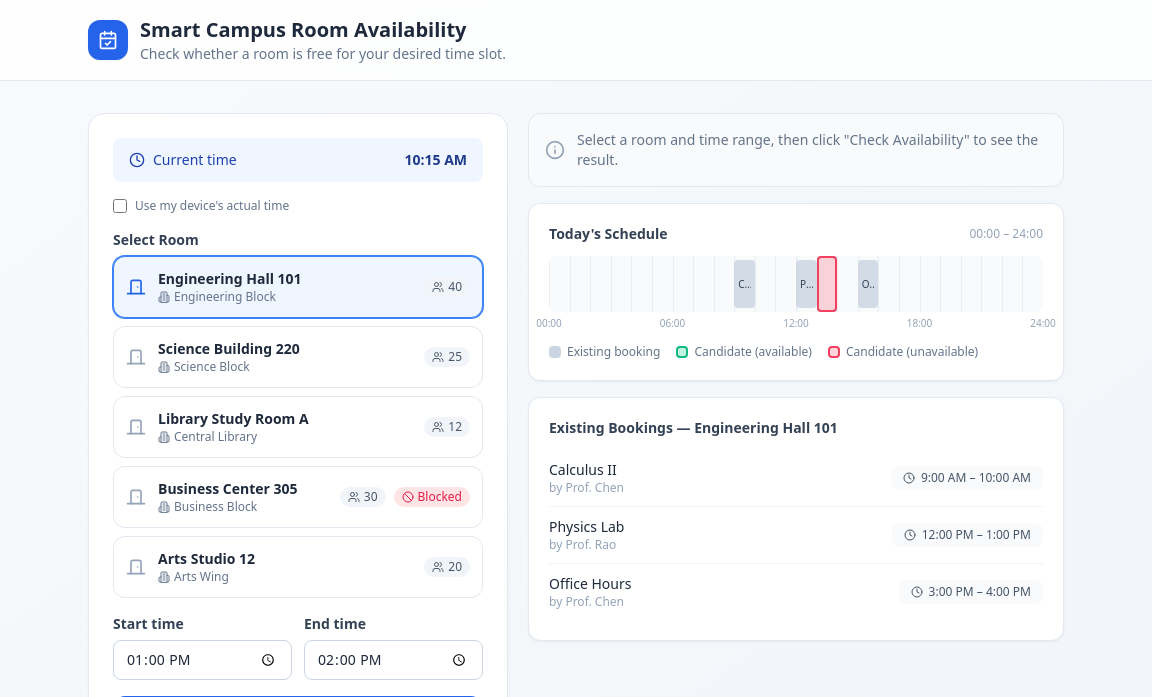
Test: App — R2: live clock updates current time display › restores the demo time (10:15 AM) after disabling live mode
The image size is (1152, 697).
// Enable live mode
Click the checkbox labelled "Use my device's actual time".
click(120, 206)  # box [113, 199, 127, 213]
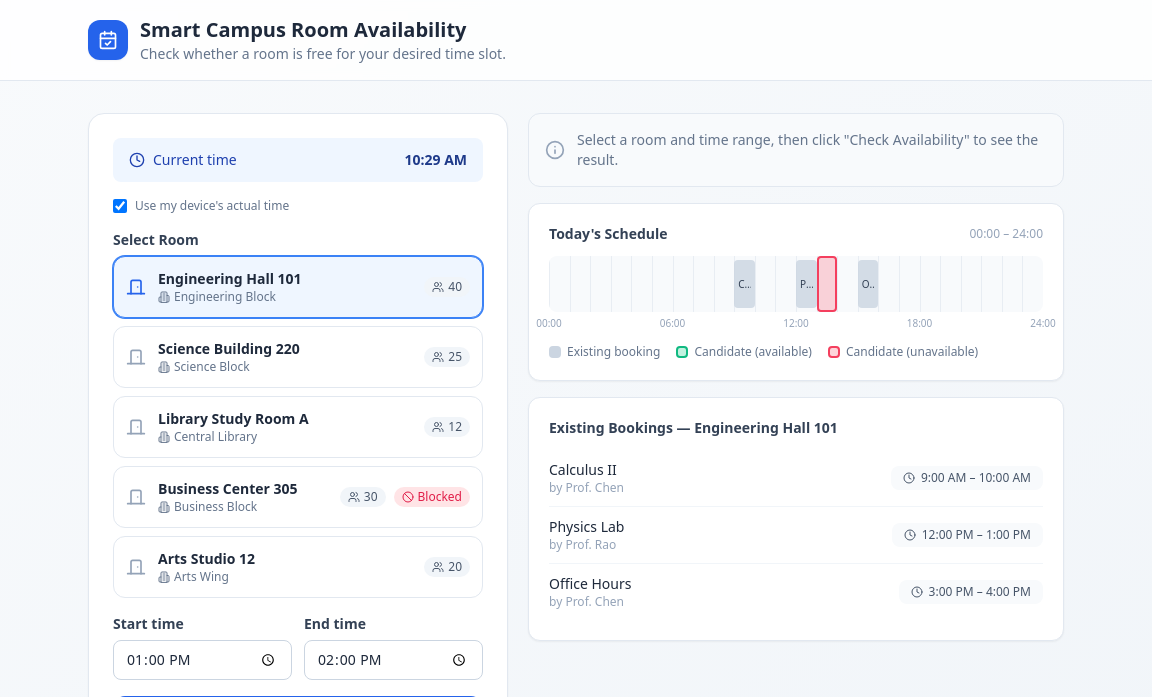
Check: the text "10:15 AM" is gone
// Disable live mode — should revert to demo time
Click the checkbox labelled "Use my device's actual time".
click(120, 206)  # box [113, 199, 127, 213]
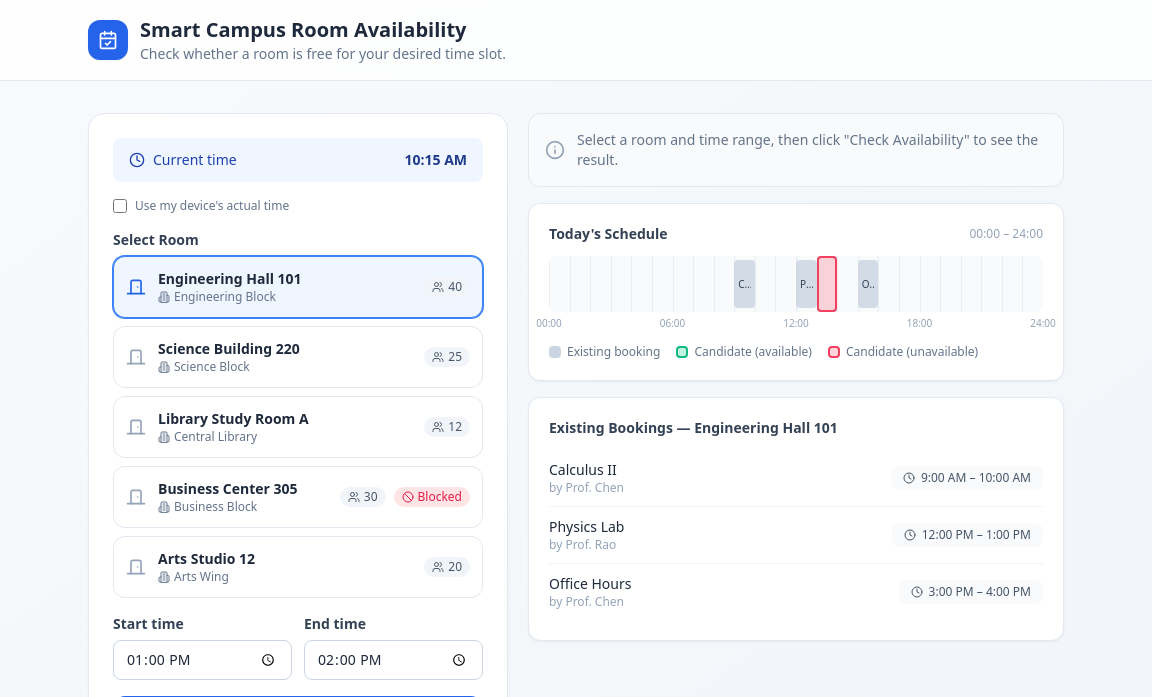
Check: the text "10:15 AM" is shown, box [404, 150, 467, 170]
